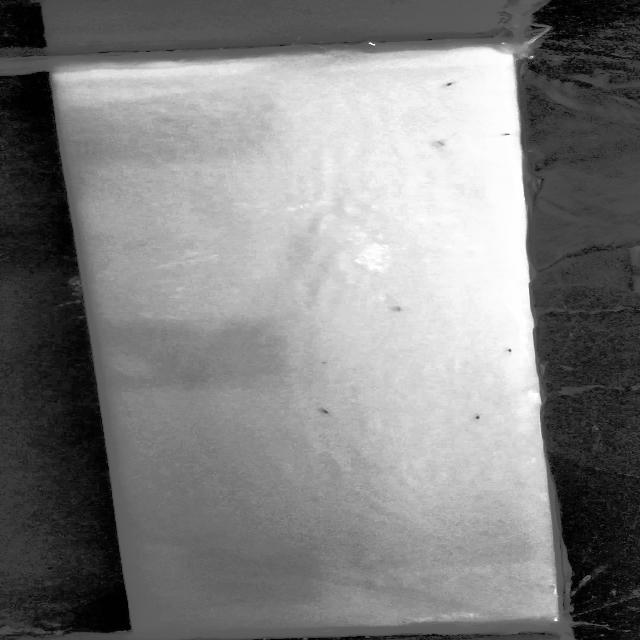shrimp: (309, 404, 343, 421), (457, 411, 493, 423), (434, 78, 464, 90), (496, 343, 518, 358), (494, 129, 522, 140)
